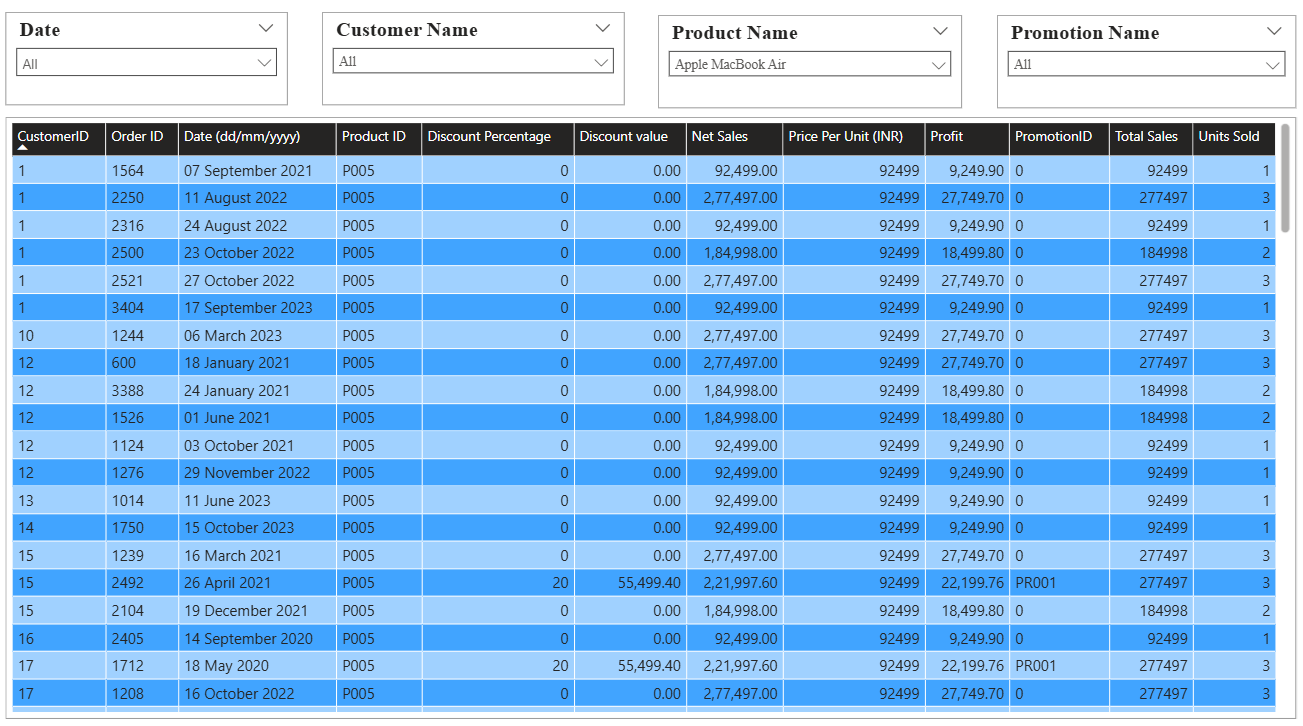

This screenshot's page, from the dashboard's own definition file:
{"tool":"powerbi","page":{"name":"Table View","canvas":[1280,720],"ordinal":4},"visuals":[{"type":"tableEx","fields":{"Values":["Fact Table.CustomerID","Fact Table.Order ID","Fact Table.Date (dd/mm/yyyy)","Fact Table.Product ID","Fact Table.Discount Percentage","Fact Table.Discount value","Fact Table.Net Sales","Fact Table.Price Per Unit (INR)","Fact Table.Profit","Fact Table.PromotionID","Fact Table.Total Sales","Fact Table.Units Sold"]},"box":[6.6,117.6,1265.6,589.7],"z":0},{"type":"slicer","fields":{"Values":["Fact Table.Date (dd/mm/yyyy)"]},"box":[6.6,14.9,276.6,91.1],"z":1000},{"type":"slicer","fields":{"Values":["Dim Customers.Customer Name"]},"box":[316.9,14.9,296.5,91.1],"z":2000},{"type":"slicer","fields":{"Values":["Dim Product.Product Name"]},"box":[647.1,18.2,298.2,91.1],"z":3000},{"type":"slicer","fields":{"Values":["Dim Promotion.Promotion Name"]},"box":[979,18.2,293.2,91.1],"z":4000}]}

Visuals, with their boxes in screenshot pixels (x1, y1, x2, y2), scaled from the page's 1280x720 canvas onto the 1303x726 screenshot:
tableEx - Fact Table.CustomerID x Fact Table.Order ID: x1=7 y1=119 x2=1295 y2=713
slicer - Fact Table.Date (dd/mm/yyyy): x1=7 y1=15 x2=288 y2=107
slicer - Dim Customers.Customer Name: x1=323 y1=15 x2=624 y2=107
slicer - Dim Product.Product Name: x1=659 y1=18 x2=962 y2=110
slicer - Dim Promotion.Promotion Name: x1=997 y1=18 x2=1295 y2=110
